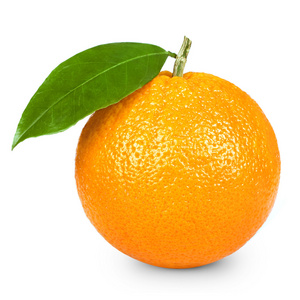orange: (75, 73, 279, 269)
